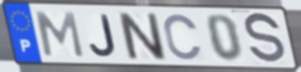0: (205, 12, 246, 64)
C: (162, 12, 204, 62)
J: (88, 13, 118, 59)
M: (33, 10, 87, 59)
N: (114, 11, 170, 62)
S: (243, 11, 287, 67)
